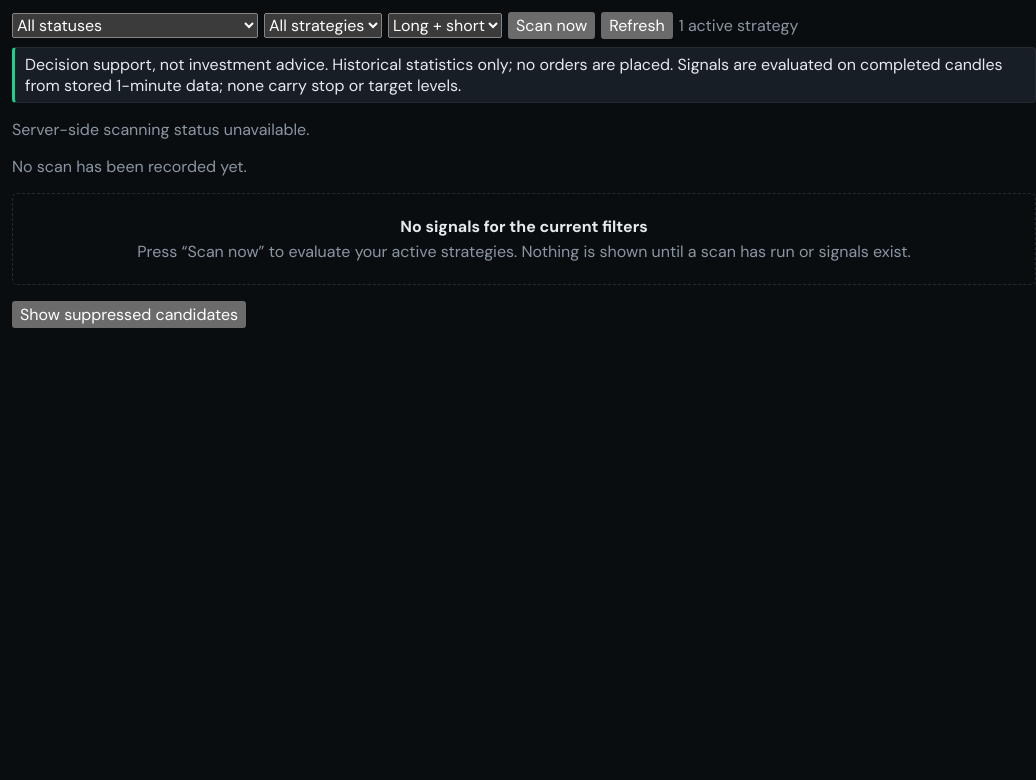
it: rejections view › filters by reason_code, shows readable labels with the raw code, and names instruments from the lists
The image size is (1036, 780).
Click the button "Show suppressed candidates" at (129, 314), box [12,301,246,328]
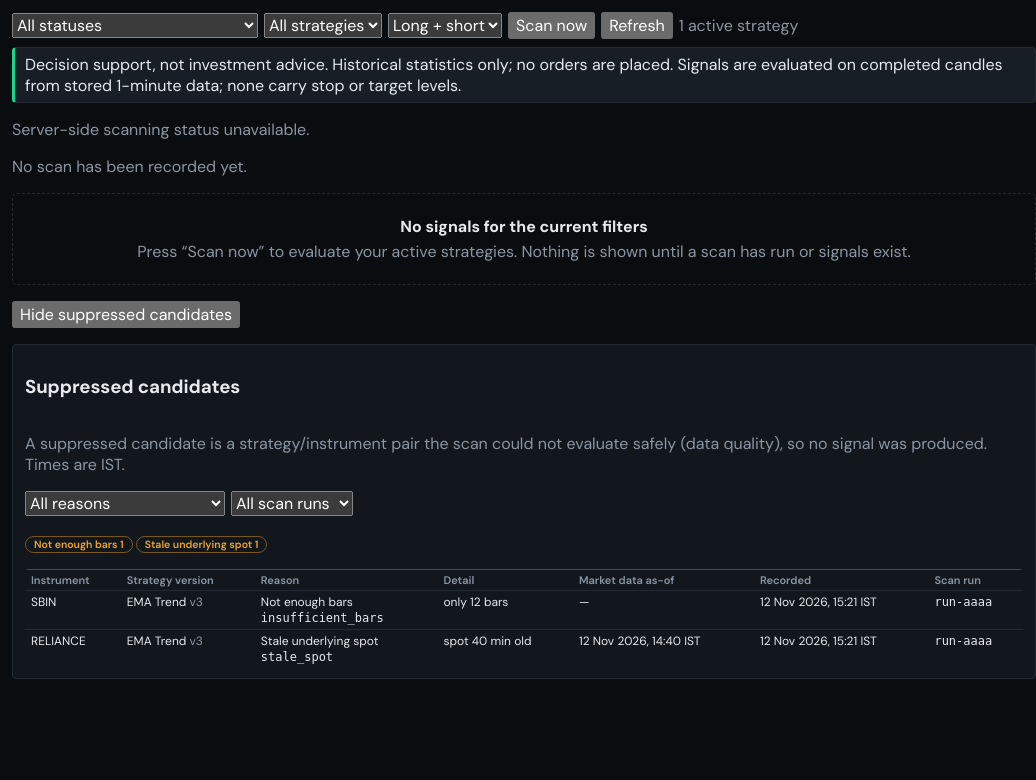
Result: the text "only 12 bars" is shown at [438,591,573,630]
Result: the text "insufficient_bars" is shown at [261,611,384,625]
Result: the text "Not enough bars" is shown at [261,594,353,610]
Select "Stale underlying spot (1)" in the dropdown named "Filter by reason" at (125, 504), box [25,491,225,516]
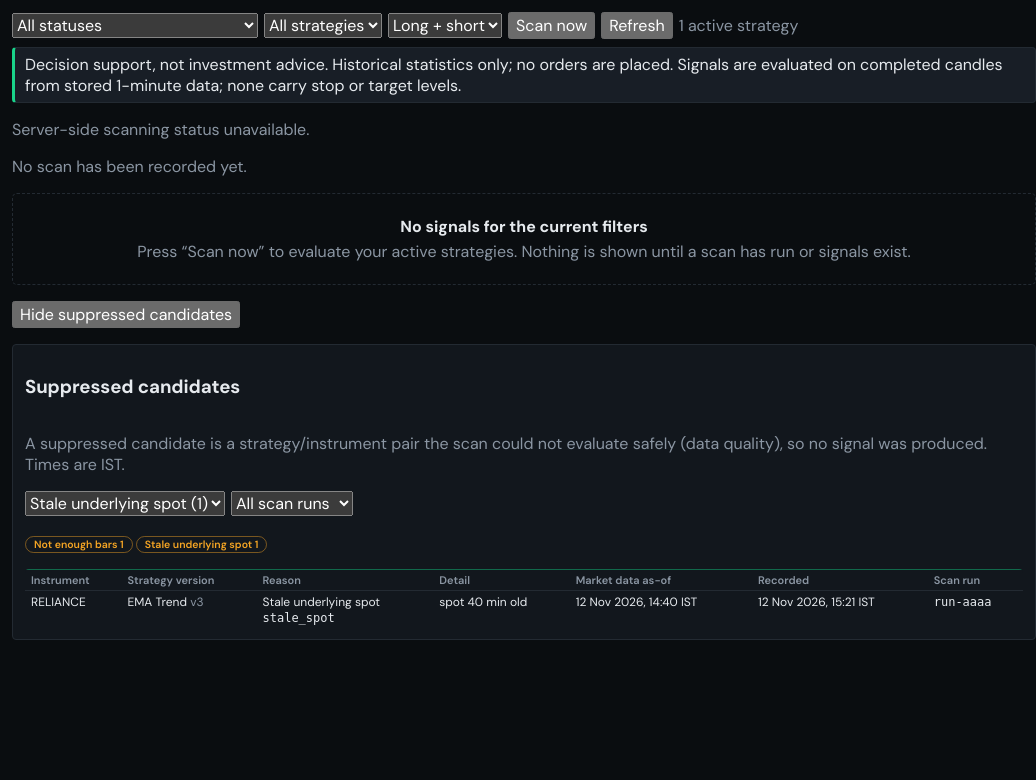
Result: the text "spot 40 min old" is shown at [433,591,570,629]
Result: the text "RELIANCE" is shown at [25,591,122,629]
Result: the text "only 12 bars" is gone
